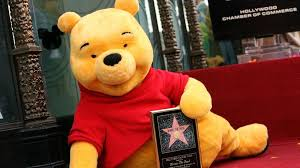Winnie: (52, 5, 175, 120)
